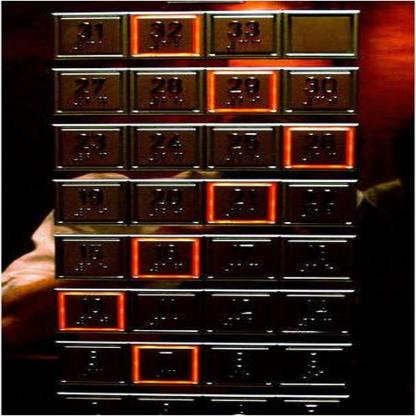11: (48, 286, 131, 336)
15: (49, 232, 132, 281)
16: (125, 233, 207, 282)
17: (200, 233, 283, 282)
19: (48, 178, 131, 226)
20: (126, 178, 209, 226)
21: (199, 178, 282, 227)
22: (276, 178, 359, 227)
23: (48, 122, 131, 172)
24: (125, 122, 207, 172)
25: (202, 122, 284, 172)
26: (277, 122, 360, 172)
27: (48, 66, 130, 116)
28: (125, 66, 207, 116)
29: (202, 66, 284, 116)
30: (279, 66, 361, 116)
31: (49, 10, 130, 61)
32: (125, 10, 206, 61)
33: (202, 9, 283, 60)
blur: (200, 288, 283, 338), (48, 339, 131, 388), (274, 288, 356, 337), (276, 234, 358, 282), (124, 288, 206, 336), (124, 340, 204, 388), (273, 342, 354, 388), (199, 342, 279, 388)
empty: (280, 8, 361, 59)
